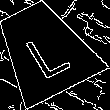L_NW: (17, 20, 72, 79)
